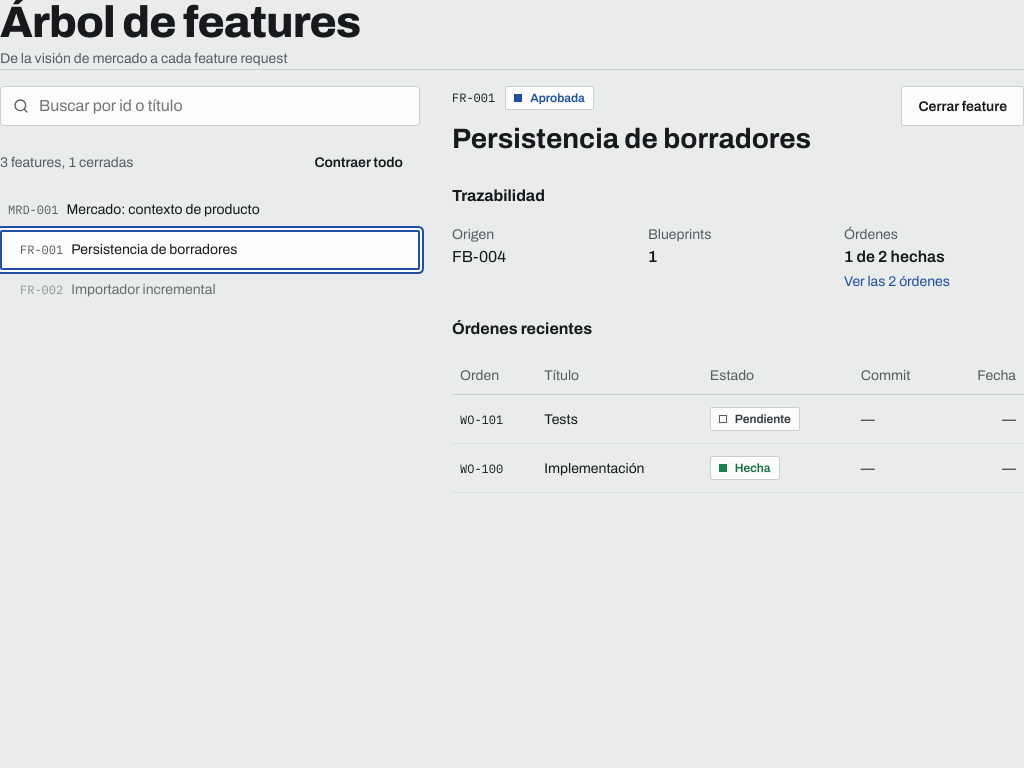
ProjectGraph (árbol de features) › hides "Forzar cierre" for an admin once every check already passes (nothing to bypass)
Click the button "Cerrar feature".
click(963, 106)  # box [902,86,1023,126]
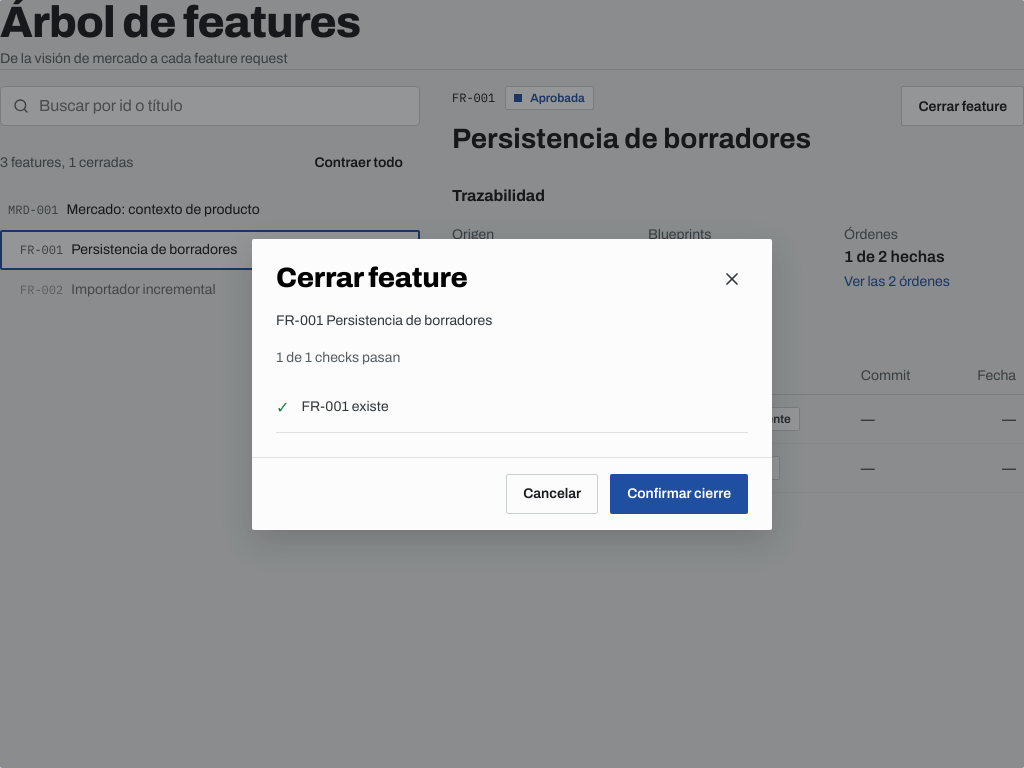
Expected: the button "Confirmar cierre" is shown, [610,474,748,514]
